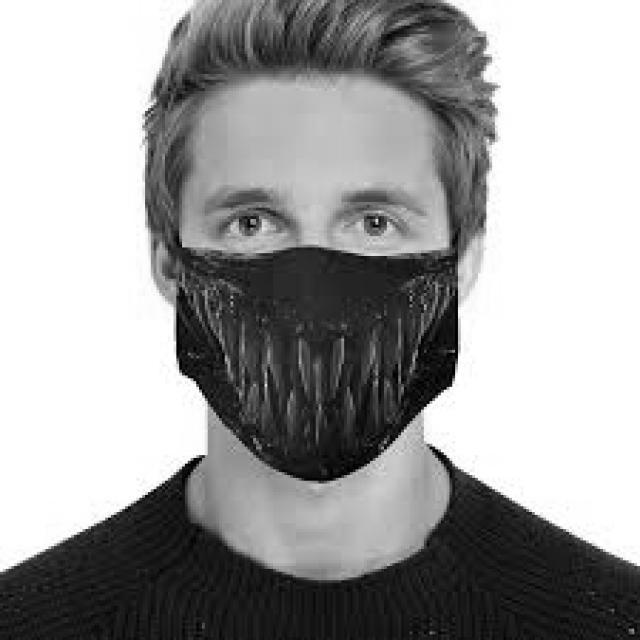fake: (167, 241, 464, 488)
real: (183, 73, 449, 491)
